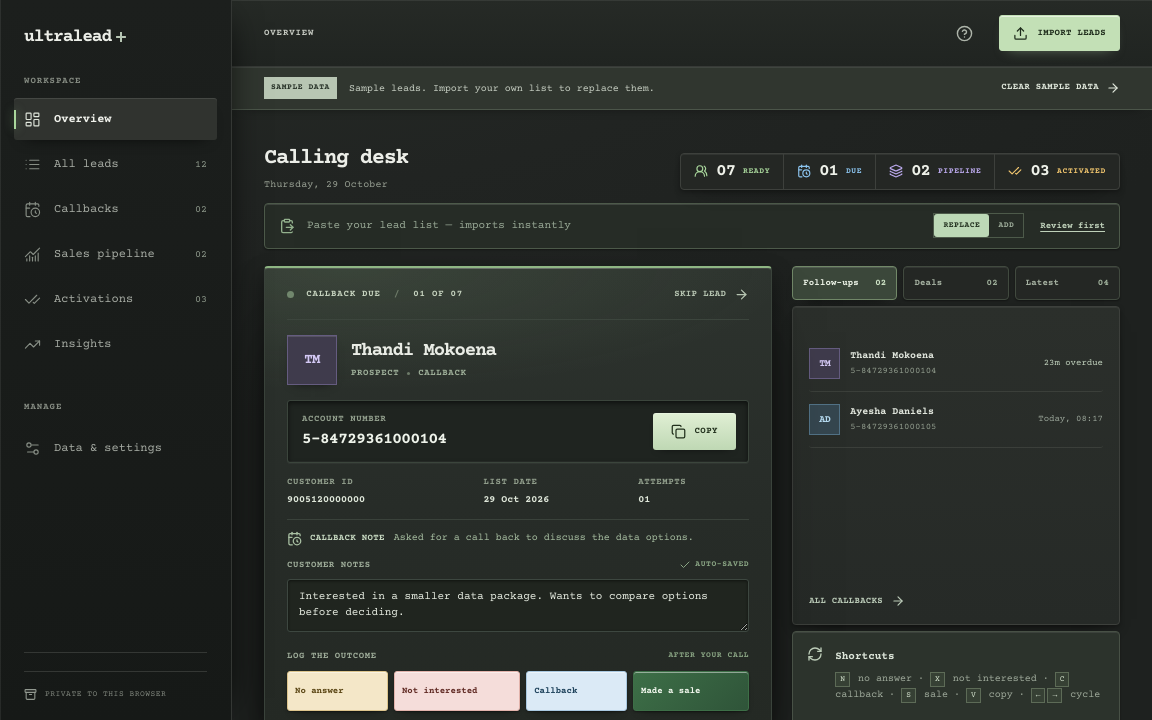
calling workflow › does not clear real data if another tab replaces the demo while confirmation is open
What coordinates should you click on to do the following:
click the button "CLEAR SAMPLE DATA"
I would click on:
 (1061, 88)
Its box is [1001,77,1120,99].
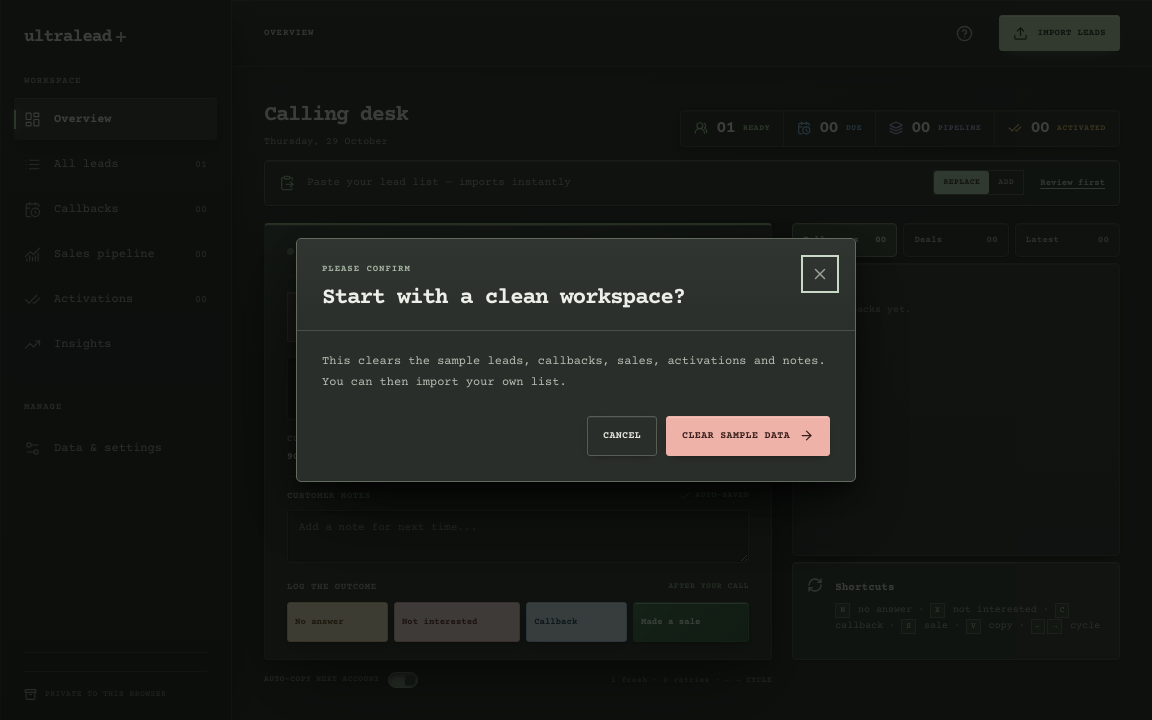
What coordinates should you click on to do the following:
click the button "CLEAR SAMPLE DATA"
I would click on:
 (748, 436)
Its box is [666,416,830,456].
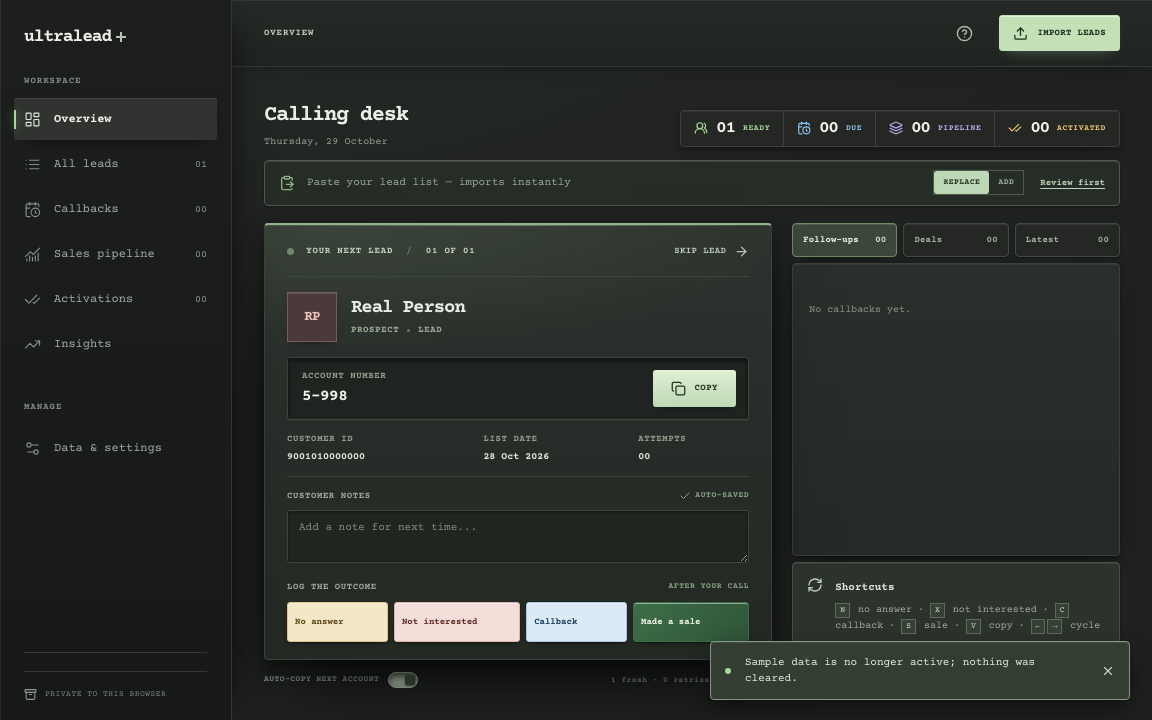
Result: the heading "Real Person" is shown at [351,298,465,318]
Result: the text "Sample data is no longer active; nothing was cleared." is shown at [710,641,1130,700]
